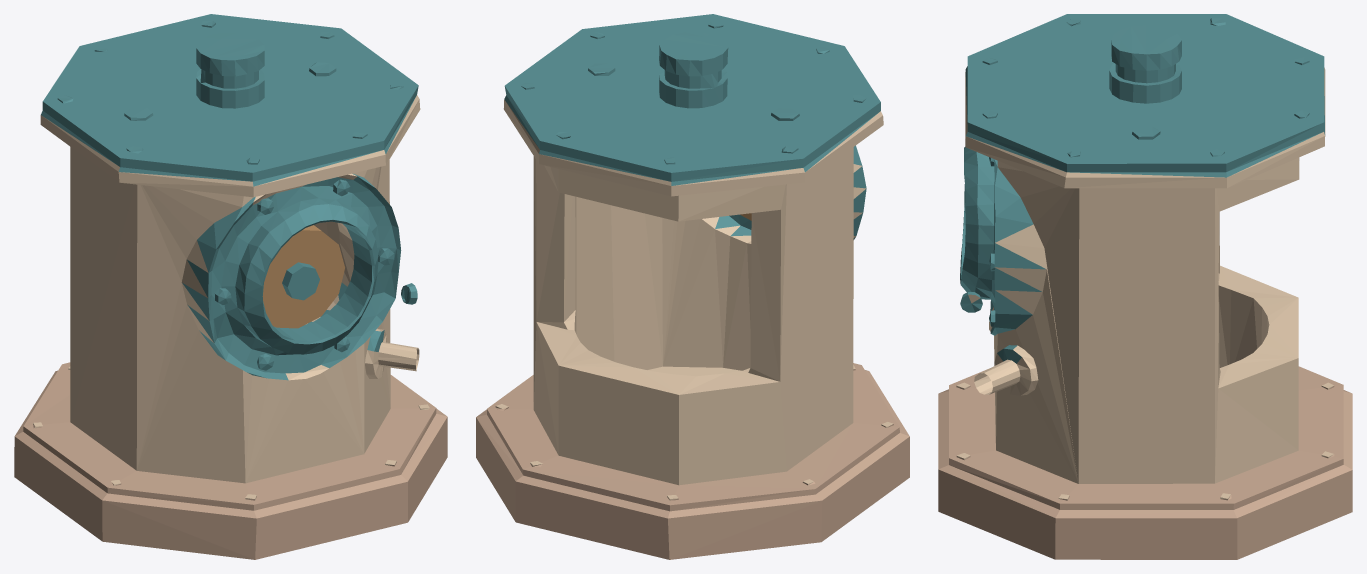
Rendered from miroir_bati.glb.
3 renders of one model, left to right at view 1: azimuth 30°, elevation 25°; view 2: azimuth 150°, elevation 25°; view 3: azimuth 270°, elevation 25°, orthographic. The views are drawn at different scales.
Parts seen in each view (by area): view 1: Bâti, Pignon dans le carter, Moyeu du pignon; view 2: Bâti; view 3: Bâti.
Part boxes in pixels (x1,y1,x2,y2): Bâti: (14, 14, 447, 559); Pignon dans le carter: (262, 225, 344, 328); Moyeu du pignon: (282, 262, 319, 300); Bâti: (476, 14, 909, 559); Bâti: (938, 14, 1352, 559).
Bounding box in the file's own units: 1.04 × 1.22 × 1.05.
